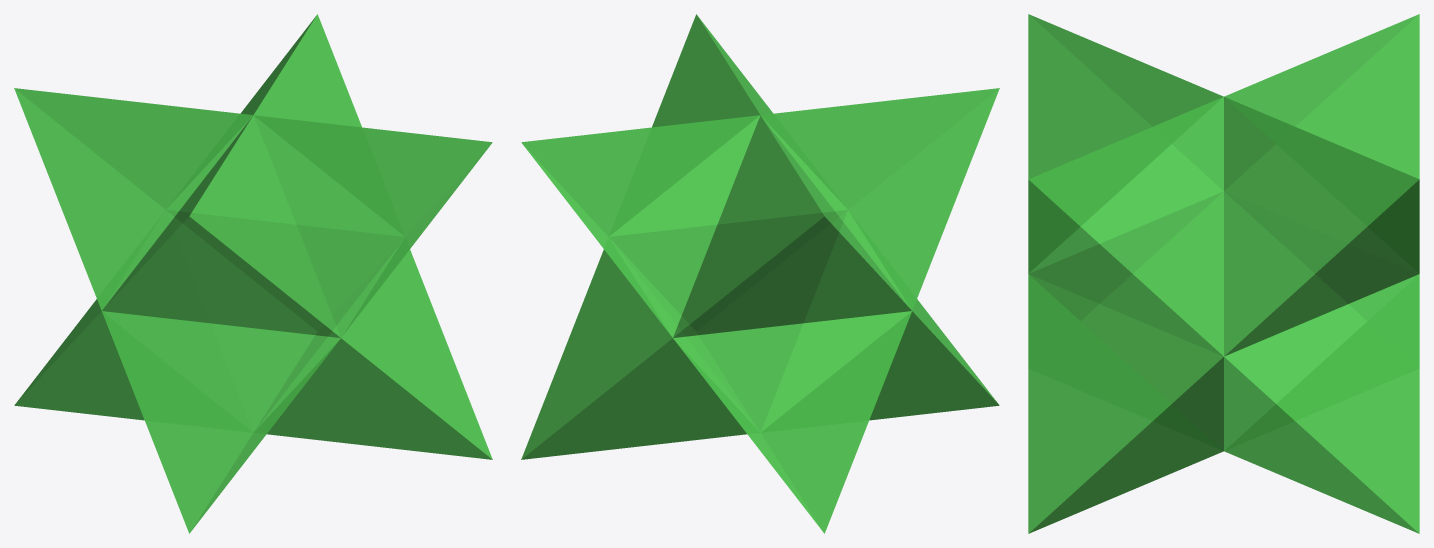
Rendered from StellaOctangula.obj.
The picture shows the model from 3 angles, left to right: view 1: azimuth 30°, elevation 25°; view 2: azimuth 150°, elevation 25°; view 3: azimuth 270°, elevation 25°; orthographic projection. The views are drawn at different scales.
Size of the model in its own units: 0.7071 by 0.7071 by 0.7071.
